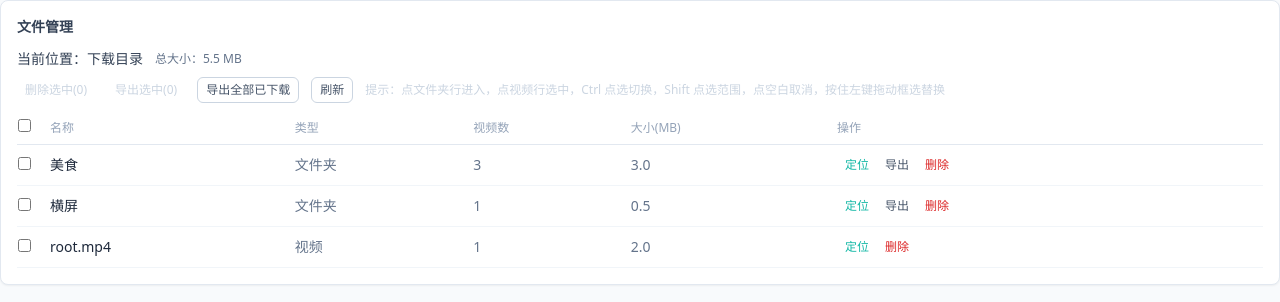
Test: FileManager（文件管理 tab） › 刷新后当前文件夹已不存在（被删）→ 自动退回最近仍存在的上级
What coordinates should you click on to do the following:
click the text "美食"
I would click on:
 (64, 164)
Its box is [49,144,294,186].
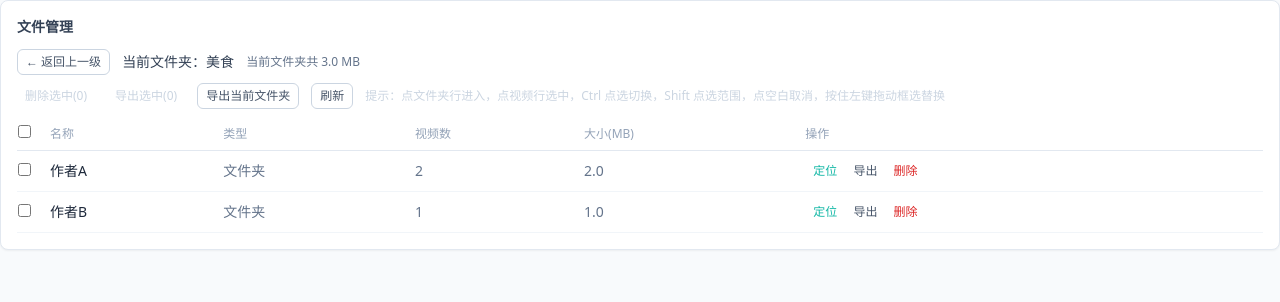
Expected: the text "作者A" is shown
What coordinates should you click on to do the following:
click the text "作者A"
I would click on:
 (68, 170)
Its box is [49,150,222,192].
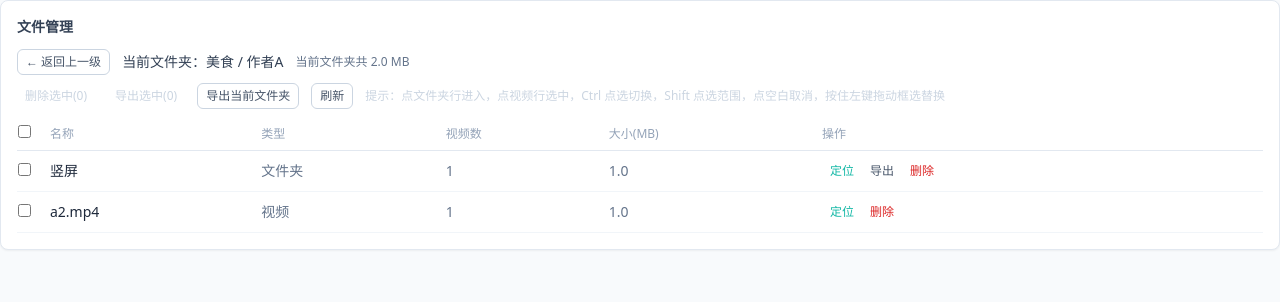
Expected: the text "a2.mp4" is shown, [49,192,260,232]
What coordinates should you click on to do the following:
click the button "刷新"
I would click on:
 (332, 96)
Its box is [311,83,353,109].
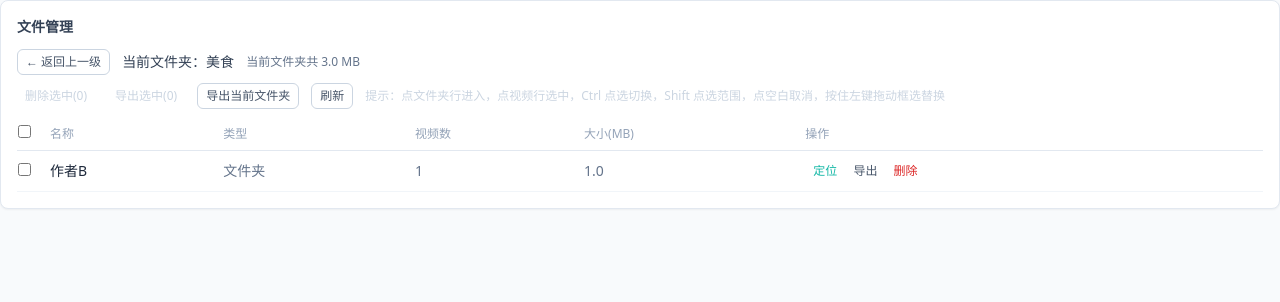
Expected: the text "当前文件夹：美食" is shown, [122,52,234,72]
Expected: the text "作者B" is shown, [49,150,222,192]
Expected: the text "a2.mp4" is gone
